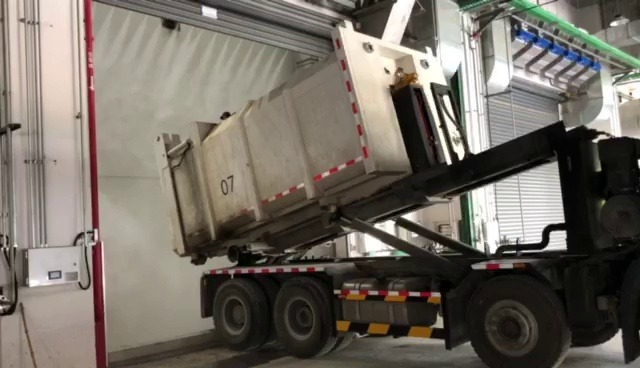truck: (148, 16, 640, 368)
